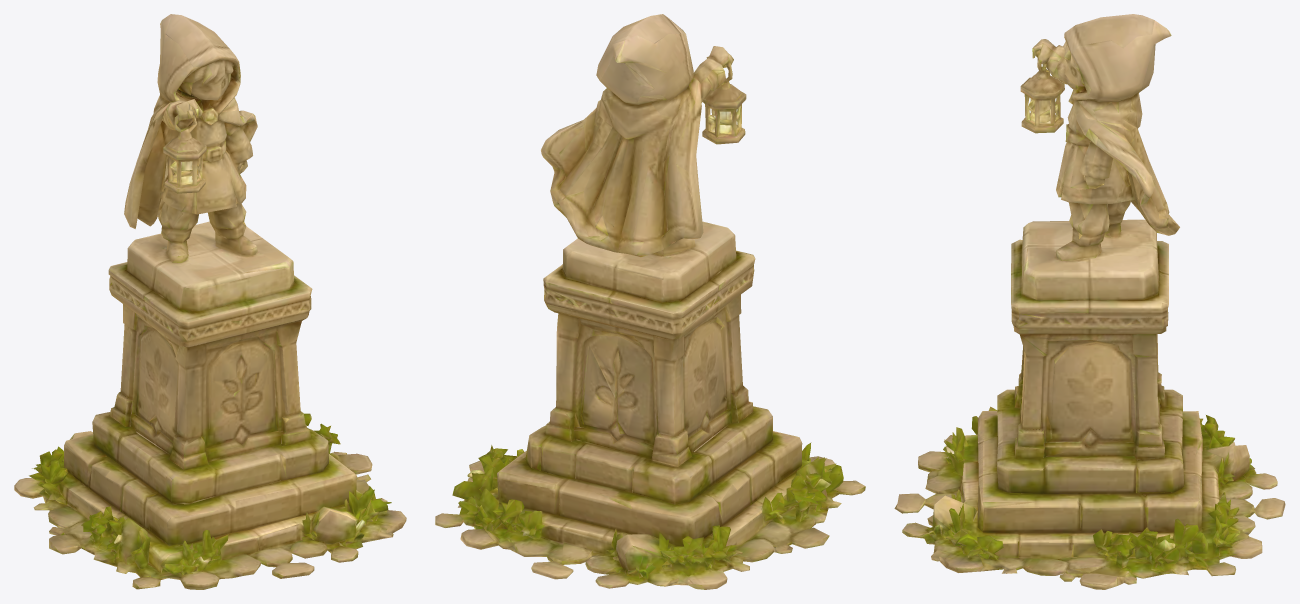
File: lantern-bearer.glb
3 renders of one model, left to right at view 1: azimuth 30°, elevation 25°; view 2: azimuth 150°, elevation 25°; view 3: azimuth 270°, elevation 25°, orthographic. The views are drawn at different scales.
Visible parts, largest first — view 1: Mesh1.0; view 2: Mesh1.0; view 3: Mesh1.0.
Boxes of the visible parts, bbox=[...] form: Mesh1.0: bbox=[14, 14, 406, 589]; Mesh1.0: bbox=[435, 14, 865, 589]; Mesh1.0: bbox=[894, 14, 1285, 589].
Size of the model in its own units: 1.37 by 1.9 by 1.37.
Materials: 1 (1 with a texture image).
